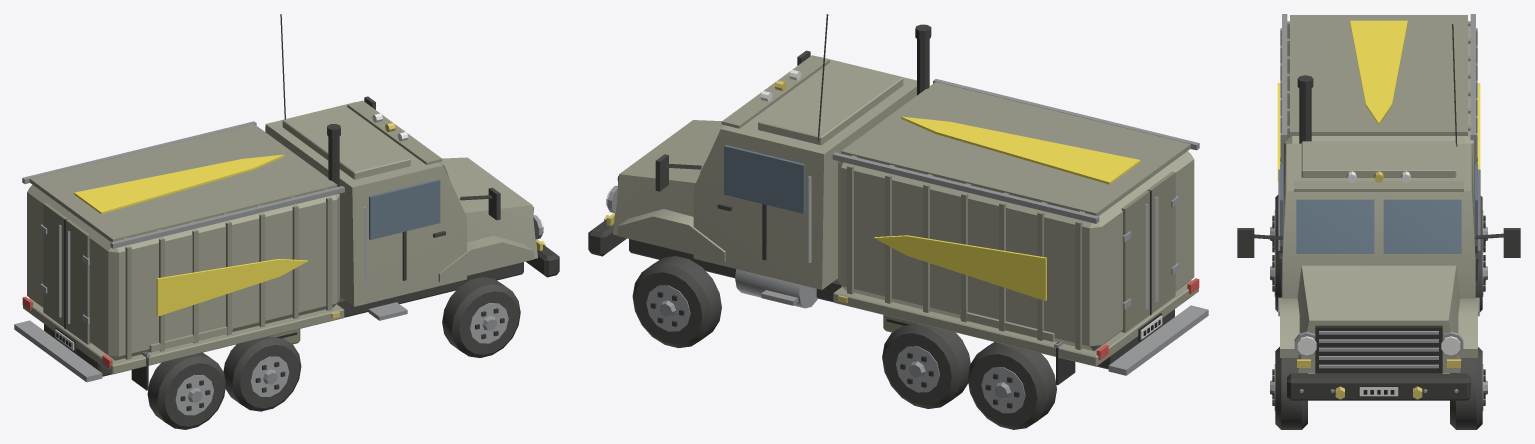
The model's file is truck.glb.
The picture shows the model from 3 angles, left to right: view 1: azimuth 30°, elevation 25°; view 2: azimuth 150°, elevation 25°; view 3: azimuth 270°, elevation 25°; orthographic projection. The views are drawn at different scales.
Parts seen in each view (by area): view 1: hull; view 2: hull; view 3: hull.
Boxes of the visible parts, left/top/right/bottom form: hull: left=14, top=14, right=559, bottom=429; hull: left=588, top=14, right=1208, bottom=429; hull: left=1237, top=14, right=1520, bottom=429.
Size of the model in its own units: 7.58 by 4.79 by 3.66.
